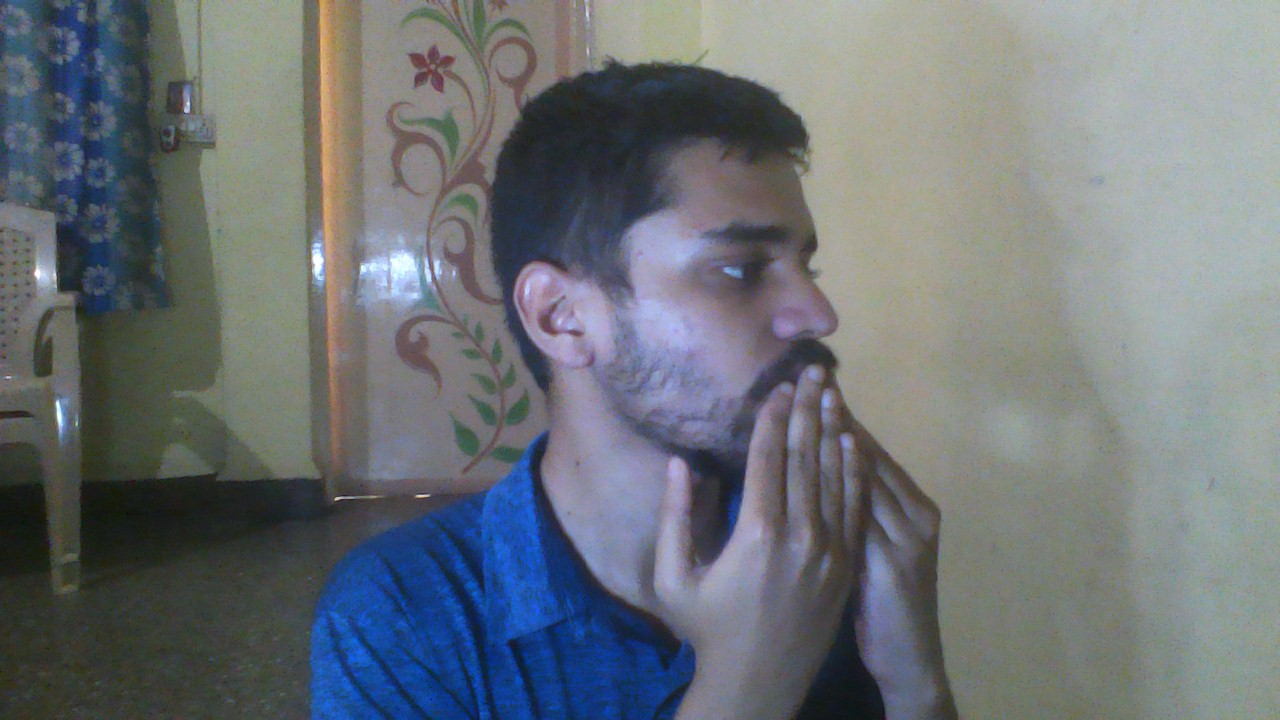thanks: (630, 350, 1004, 720)
